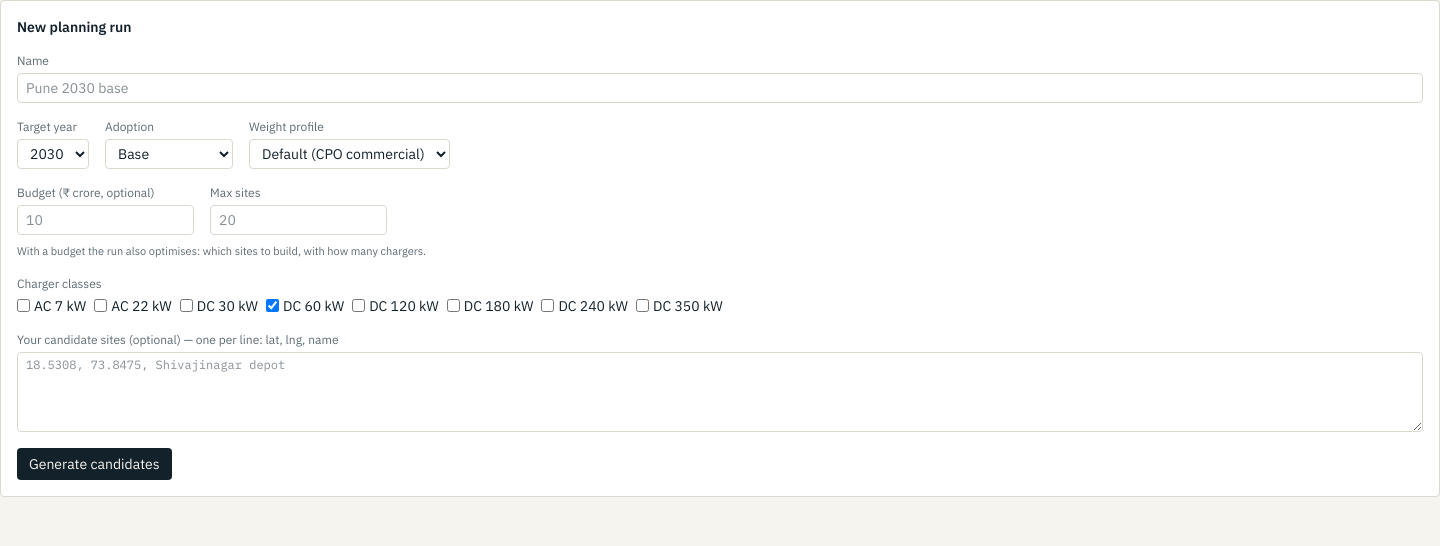
Test case: ScenarioForm › blocks submission while a site line is malformed
Type "not a site" into the text box labelled "Your candidate sites". click: (720, 392)
box: [17, 352, 1423, 432]
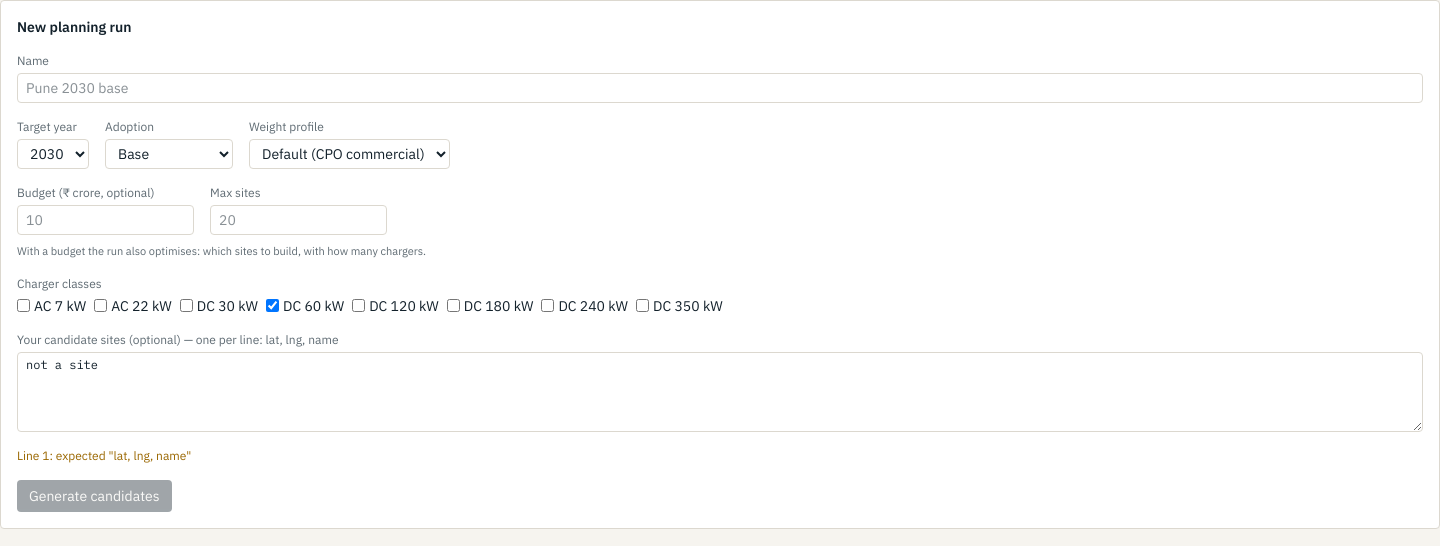
Expected: the text "Line 1: expected \"lat, lng, name\"" is shown, [17, 448, 191, 462]
Expected: the button "Generate candidates" is disabled, [17, 480, 172, 512]
